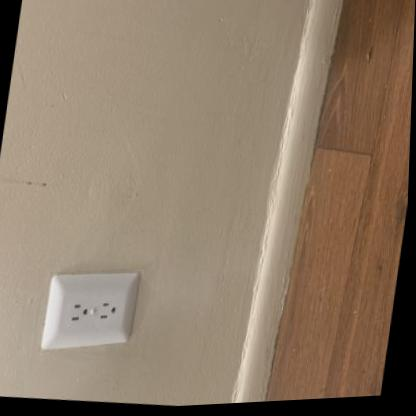OUTLET: (37, 263, 140, 360)
